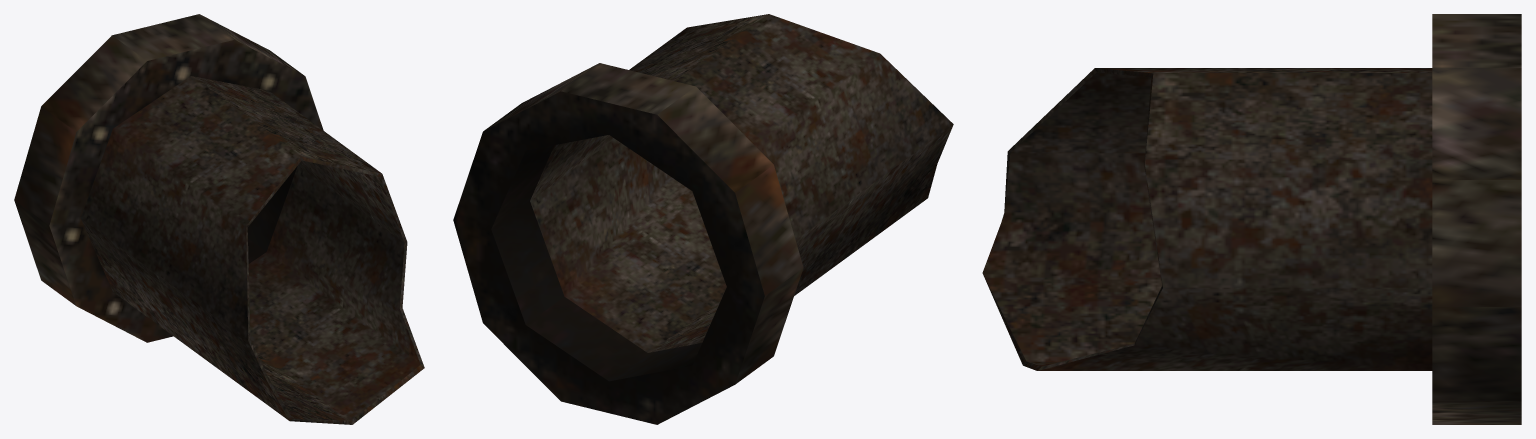
File: pipe_piece_wall.dae
3 renders of one model, left to right at view 1: azimuth 30°, elevation 25°; view 2: azimuth 150°, elevation 25°; view 3: azimuth 270°, elevation 25°, orthographic. The views are drawn at different scales.
Parts seen in each view (by area): view 1: polySurface17; view 2: polySurface17; view 3: polySurface17.
Part boxes in pixels (box(x1,y1,x2,y2)): polySurface17: box(14, 14, 424, 424); polySurface17: box(453, 14, 953, 424); polySurface17: box(982, 14, 1521, 424).
Bounding box in the file's own units: 0.4332 × 0.412 × 0.564.
